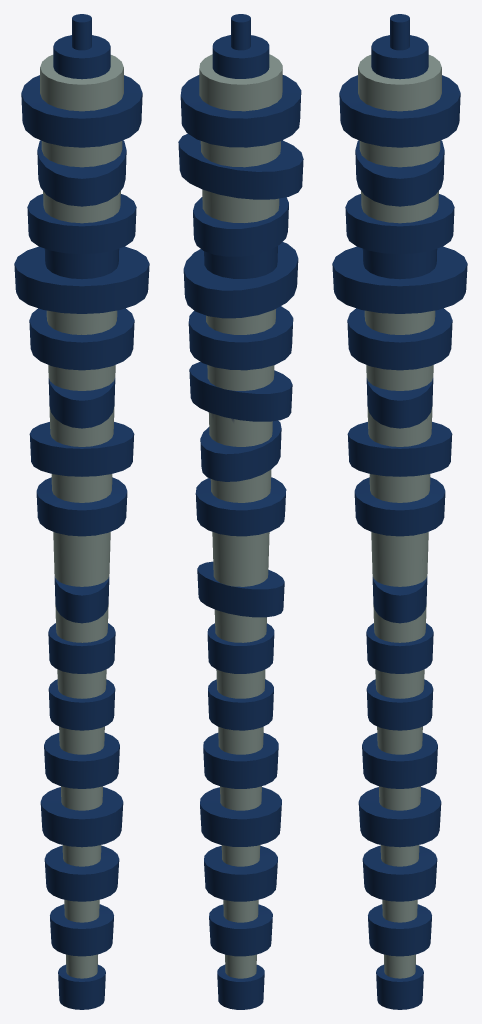
The model's file is building1.glb.
3 renders of one model, left to right at view 1: azimuth 90°, elevation 25°; view 2: azimuth 150°, elevation 25°; view 3: azimuth 270°, elevation 25°, orthographic.
Visible parts, largest first — view 1: building1; view 2: building1; view 3: building1.
Boxes of the visible parts, x1,y1,x2,y2 form: building1: (14, 14, 149, 1009); building1: (178, 14, 303, 1009); building1: (332, 14, 467, 1009).
Bounding box in the file's own units: 0.1023 × 0.82 × 0.1023.
Materials: 1 (1 with a texture image).
